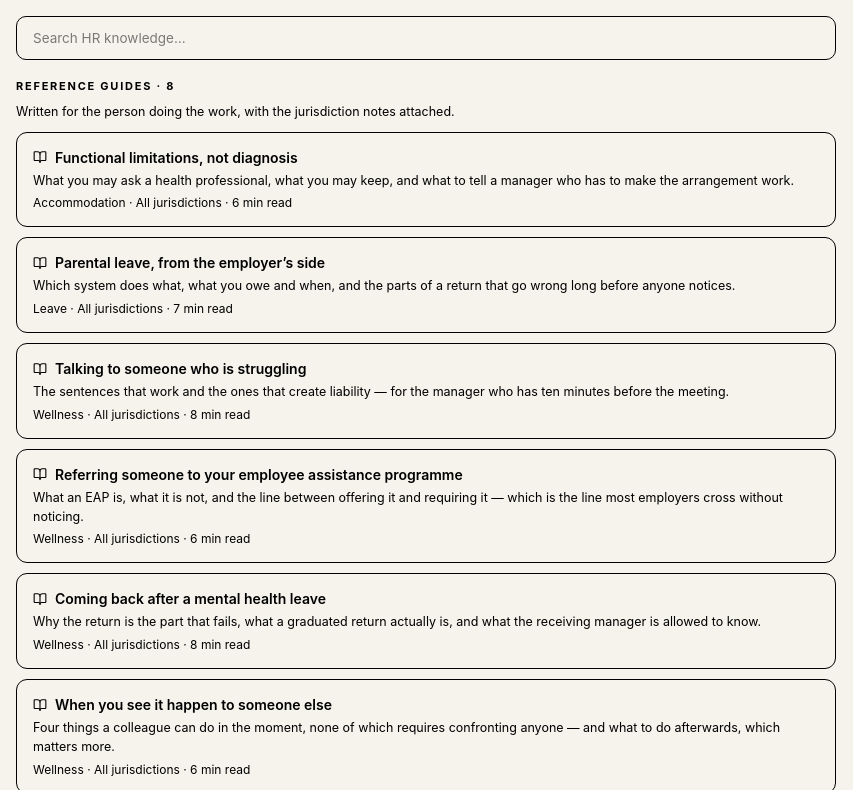
Test: KnowledgeView › shows an empty state when the filter matches nothing
This screenshot has width=853, height=790.
Type "zzz-no-such-topic" into the field with placeholder "Search HR knowledge…" at (426, 38), box [16, 16, 836, 60]
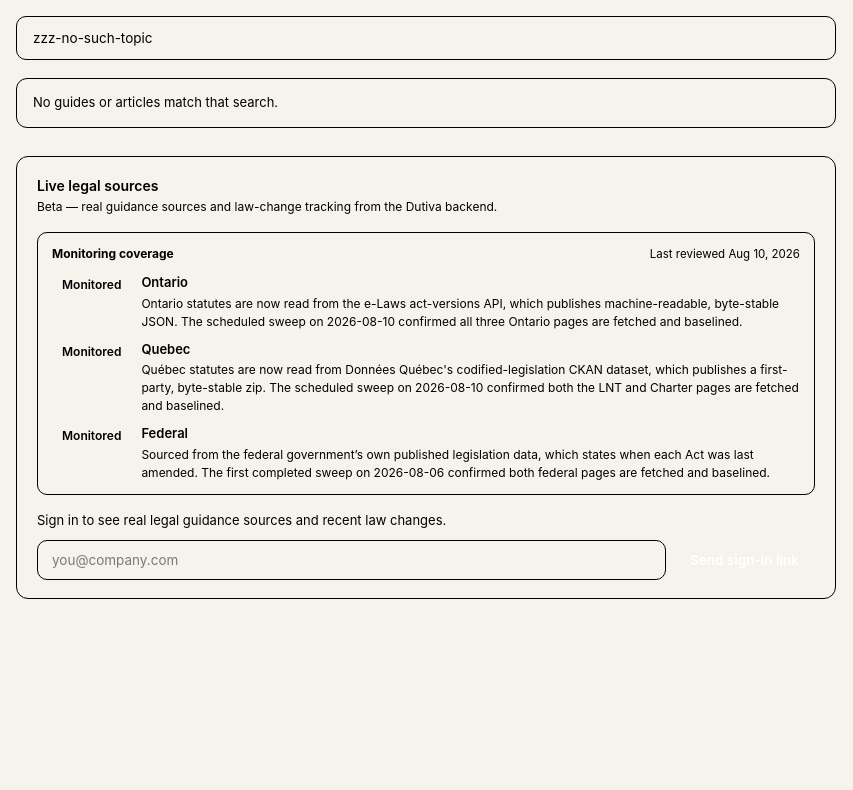
Expected: the text "No guides or articles match that search." is shown, [16, 78, 836, 128]
